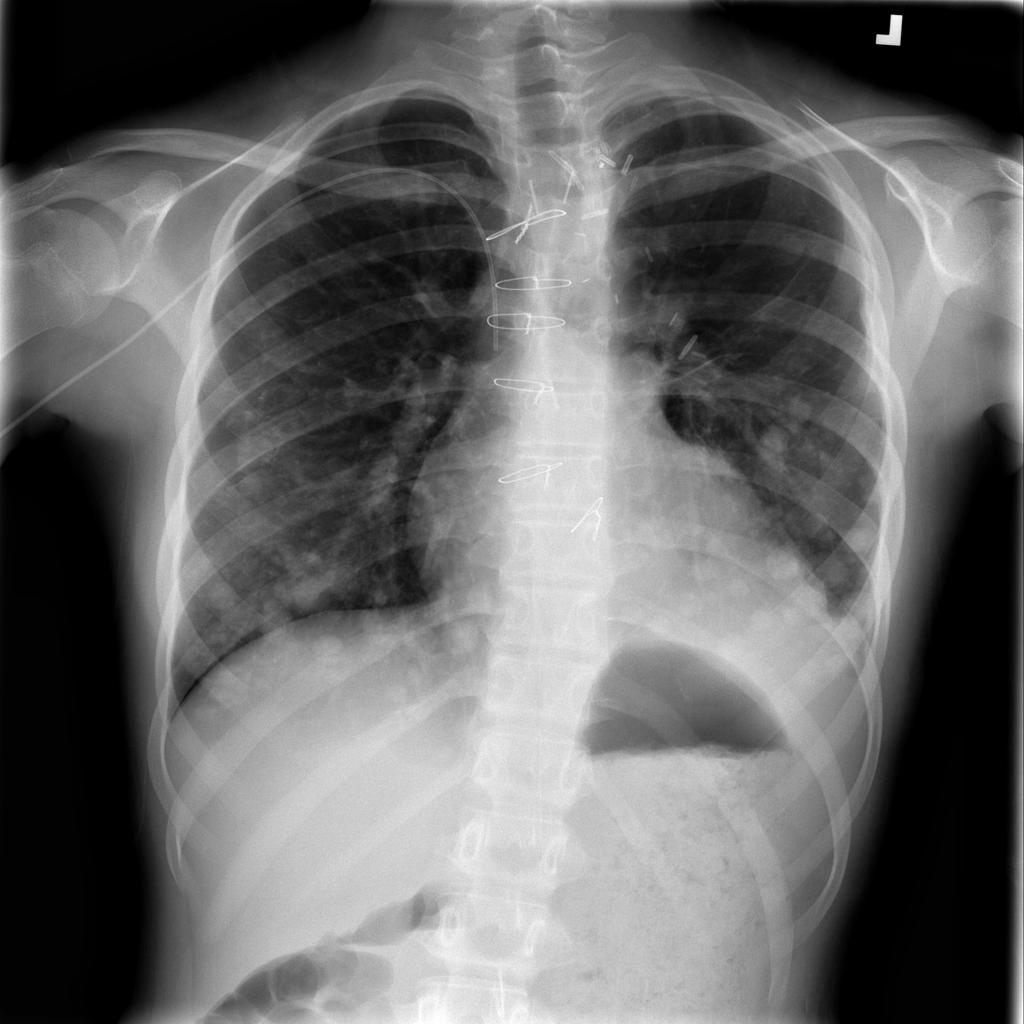nodule: (267, 550, 354, 621), (426, 593, 496, 668), (220, 431, 293, 500), (186, 561, 260, 628), (758, 535, 813, 584), (772, 377, 825, 425), (839, 515, 888, 565)
